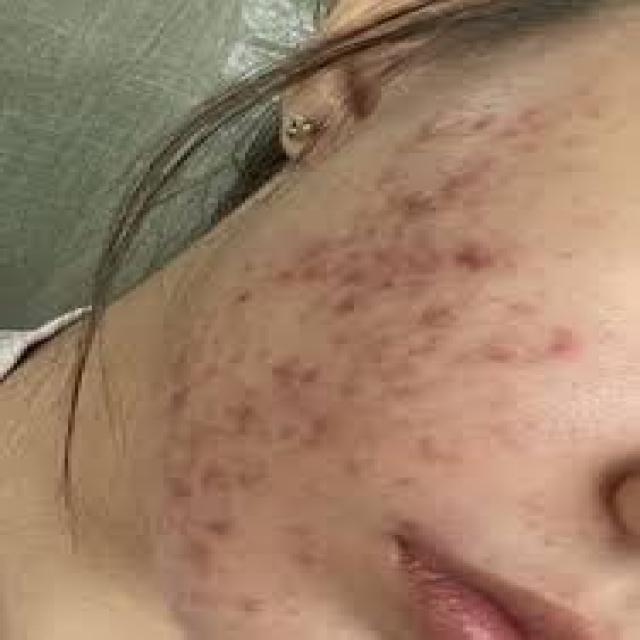Acne: (161, 98, 589, 589)
